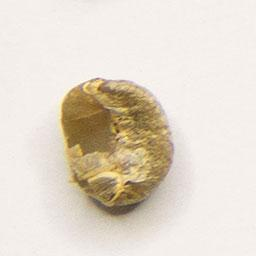premium: (56, 72, 181, 212)
